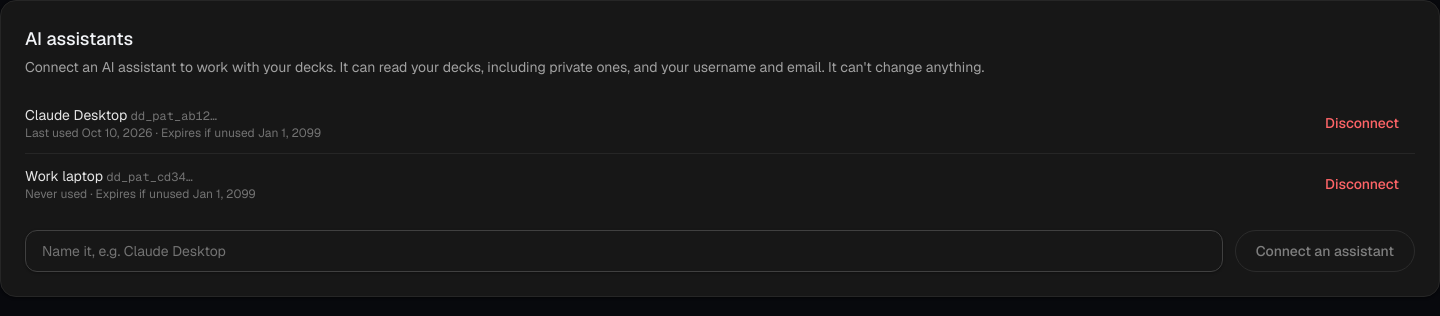
Test: access tokens: disconnecting › deletes the chosen token and drops only that row
Click the button "Disconnect" in the row of "Work laptop" at (1362, 184), box [1309,166,1415,202]
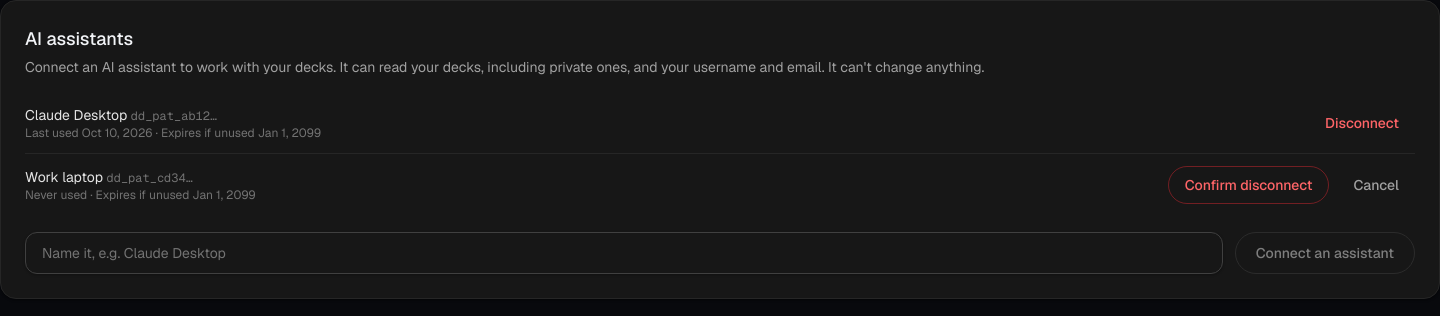
Click the button "Confirm disconnect" at (1249, 185), box [1168,166,1329,204]
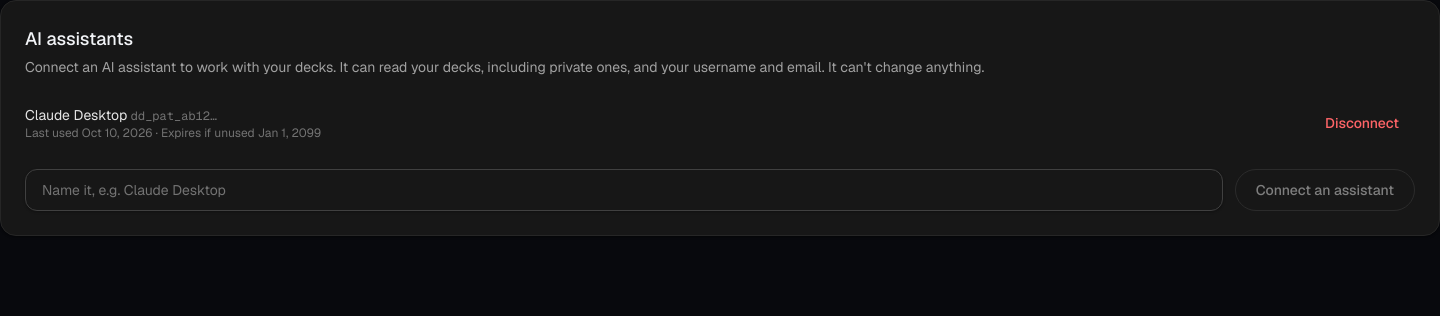
Check: the list item shows "Claude Desktop", box [25,106,127,124]
Check: the number of list items is 1, box [25,93,1415,153]
